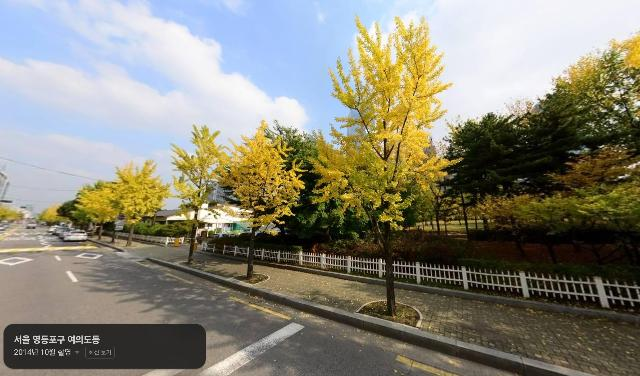ginkgo: (310, 12, 461, 317), (216, 119, 309, 280), (168, 123, 232, 266), (106, 156, 172, 247), (74, 179, 123, 241), (37, 202, 62, 228)
other: (541, 30, 640, 269), (480, 92, 577, 256)
